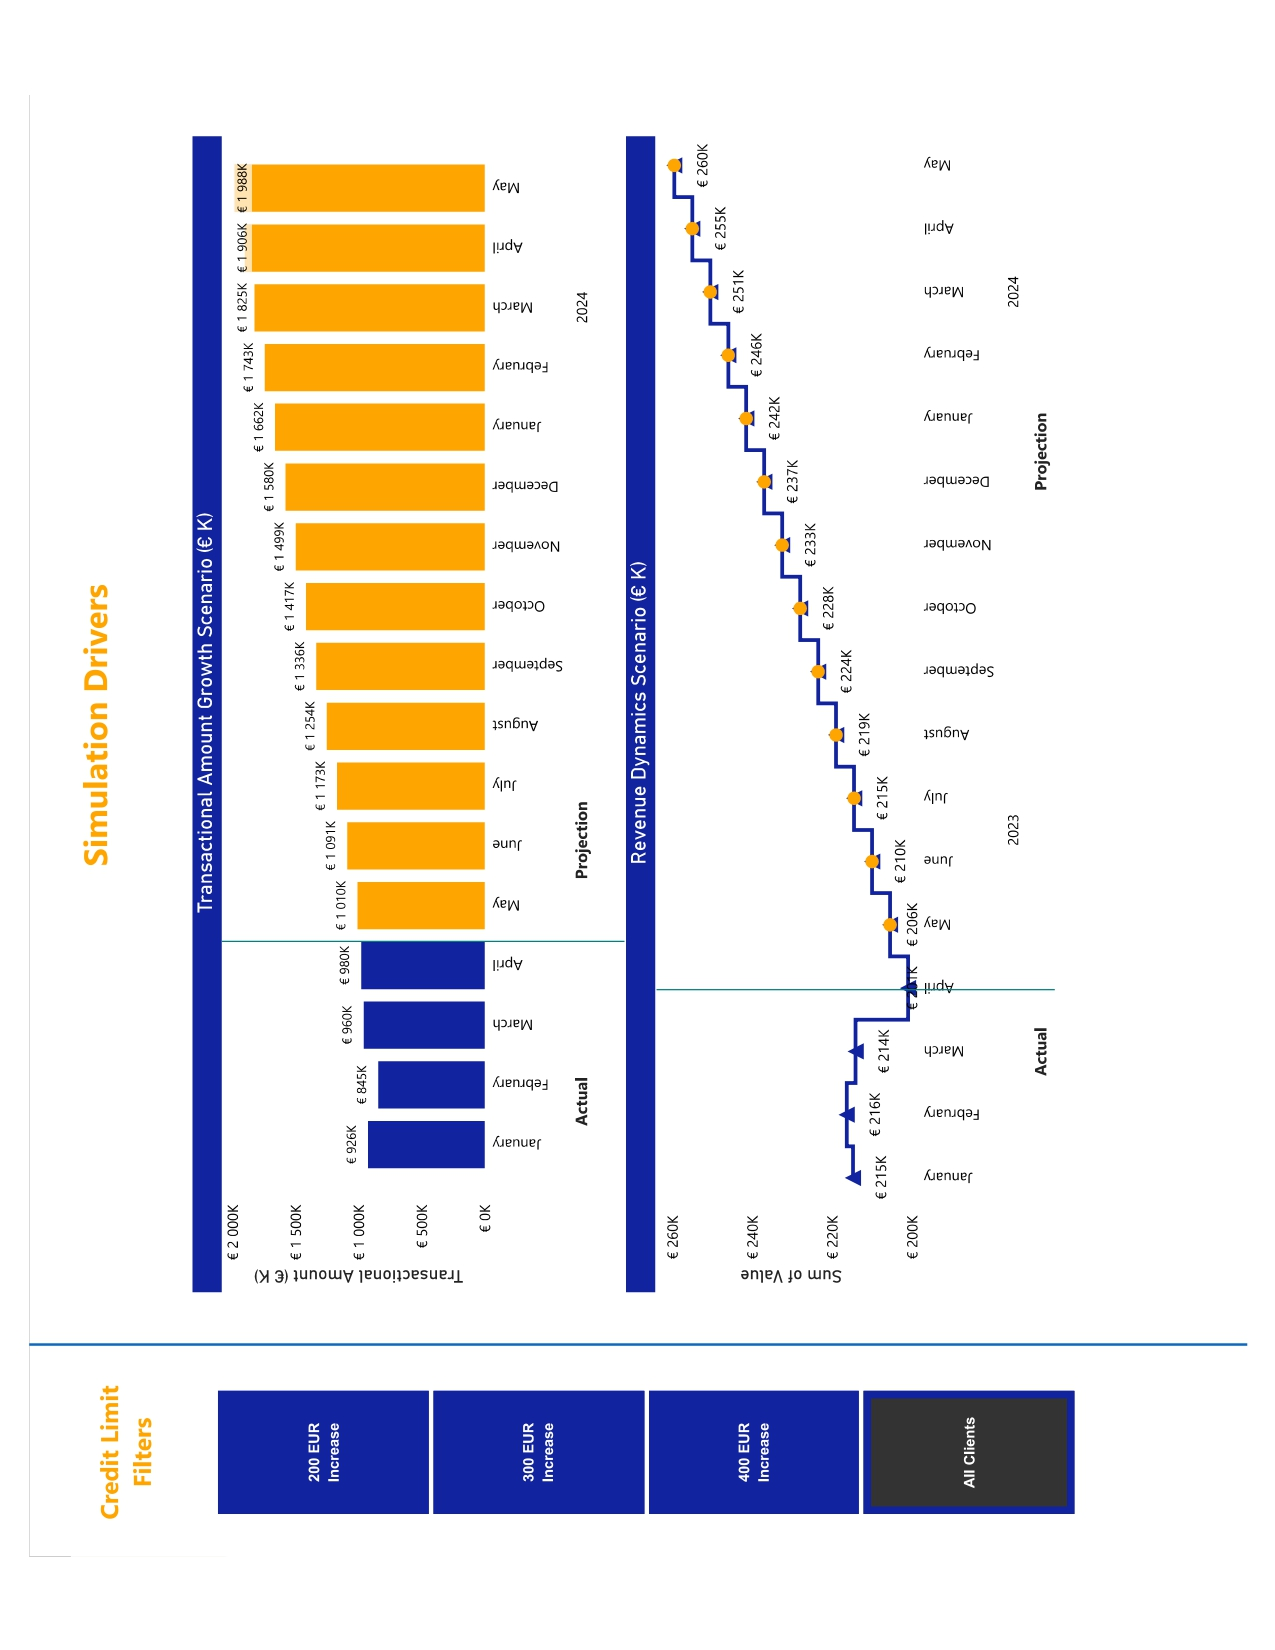

The dashboard page shown, as its layout file describes it:
{"tool":"powerbi","page":{"name":"Revenue: Budget vs. Actual","canvas":[1200,1000],"ordinal":1},"visuals":[{"type":"actionButton","box":[108.6,363.8,38,43.4],"z":0},{"type":"slicer","fields":{"Values":["Revenue.Credit Limit Setting Filters"]},"box":[8.6,132.6,151.8,732.2],"z":1000},{"type":"lineStackedColumnComboChart","title":"Transactional Amount Growth Scenario (€ K)","fields":{"Category":["TransactionalAmount.Date.Variation.Date Hierarchy.Year","TransactionalAmount.Date.Variation.Date Hierarchy.Month"],"Y":["Sum(TransactionalAmount.Value)"]},"box":[216.2,132.6,933,356.5],"z":2000},{"type":"shape","box":[498.9,157.9,11.6,331.6],"z":3000},{"type":"lineChart","title":"Revenue Dynamics Scenario (€ K)","fields":{"Y":["Sum(Revenue.Value)"],"Category":["Revenue.Date.Variation.Date Hierarchy.Year","Revenue.Date.Variation.Date Hierarchy.Month"]},"box":[216.2,489.1,933,352.6],"z":4000},{"type":"textbox","box":[150,900,300,300],"z":6000},{"type":"textbox","box":[550.6,439.1,102.8,49],"z":7000},{"type":"textbox","box":[249.8,439.1,149.9,49],"z":8000},{"type":"textbox","box":[291.1,815.8,149.9,49],"z":9000},{"type":"textbox","box":[869.6,815.8,102.8,49],"z":10000},{"type":"shape","box":[216,23.3,932.8,58.7],"z":11000},{"type":"shape","box":[21.4,23.3,128.5,108.9],"z":11001},{"type":"shape","box":[149.9,0,48.4,999.8],"z":11002},{"type":"shape","box":[457.9,514.7,14.7,327.4],"z":11003}]}

Visuals, with their boxes on the page's 1200x1000 design canvas (x1, y1, x2, y2). These are canvas units, not pixel positions in the 1275x1650 screenshot, which may show the page scaled, cropped or inside an application window:
actionButton: [109, 364, 147, 407]
slicer - Revenue.Credit Limit Setting Filters: [9, 133, 160, 865]
"Transactional Amount Growth Scenario (€ K)" lineStackedColumnComboChart: [216, 133, 1149, 489]
shape: [499, 158, 510, 490]
"Revenue Dynamics Scenario (€ K)" lineChart: [216, 489, 1149, 842]
textbox: [150, 900, 450, 1200]
textbox: [551, 439, 653, 488]
textbox: [250, 439, 400, 488]
textbox: [291, 816, 441, 865]
textbox: [870, 816, 972, 865]
shape: [216, 23, 1149, 82]
shape: [21, 23, 150, 132]
shape: [150, 0, 198, 1000]
shape: [458, 515, 473, 842]
